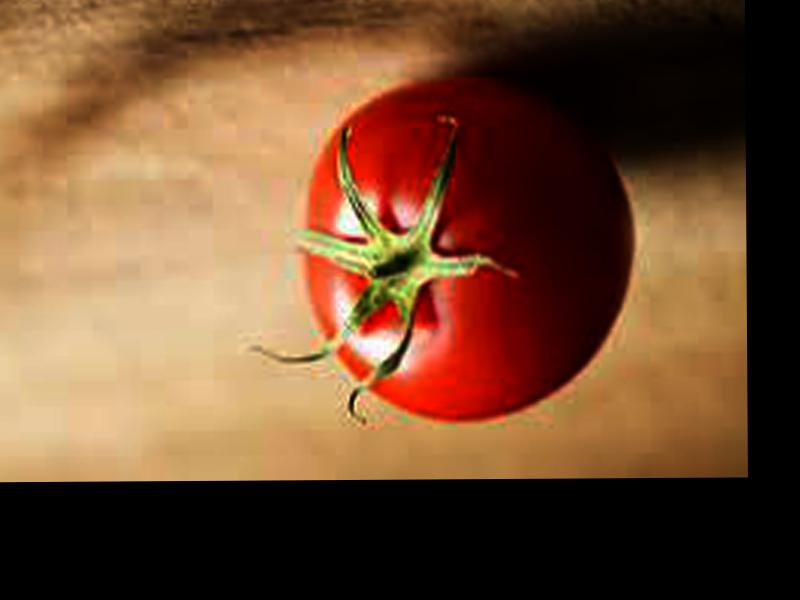Tomato: (299, 78, 631, 416)
